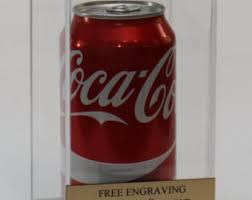Aluminum can: (59, 5, 192, 174)
